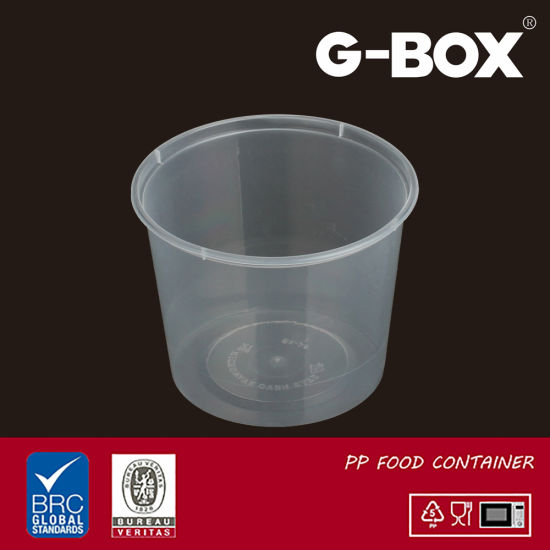PlasticBox: (125, 106, 423, 429)
